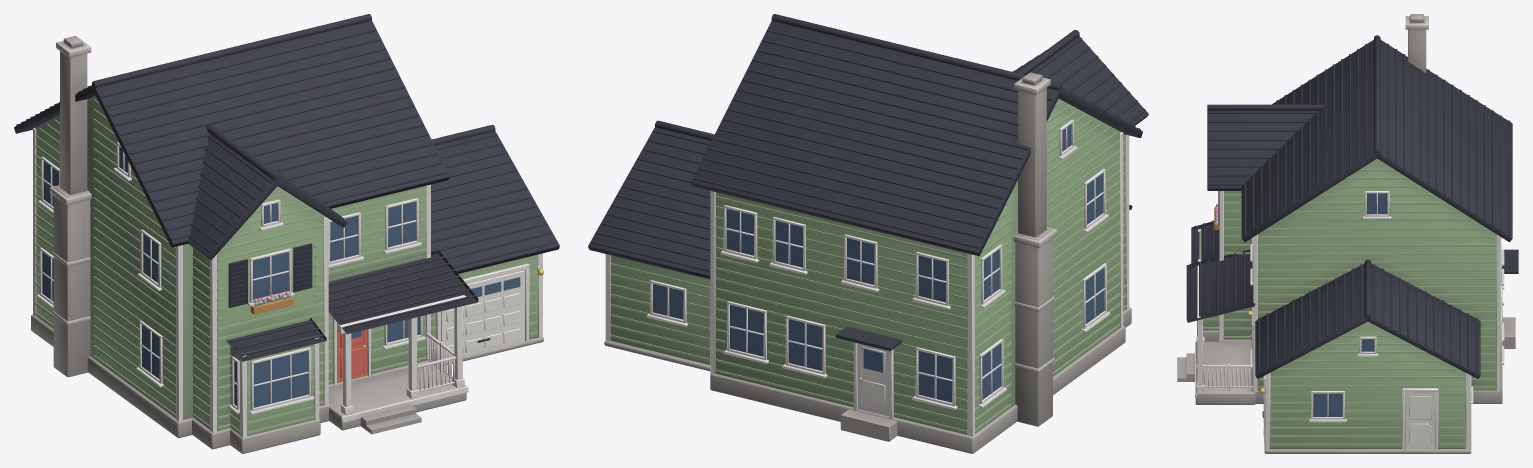
Rendered from suburban-family-house.glb.
3 views of the same model, side by side, from view 1: azimuth 30°, elevation 25°; view 2: azimuth 150°, elevation 25°; view 3: azimuth 270°, elevation 25° (orthographic). The views are drawn at different scales.
Visible parts, largest first — view 1: suburban-family-house_body, suburban-family-house_trim, suburban-family-house_roof_rows, suburban-family-house_siding, suburban-family-house_garage_door; view 2: suburban-family-house_body, suburban-family-house_trim, suburban-family-house_roof_rows, suburban-family-house_siding; view 3: suburban-family-house_body, suburban-family-house_roof_rows, suburban-family-house_siding, suburban-family-house_trim.
Part boxes in pixels (x1=…): suburban-family-house_body: x1=14, y1=14, x2=559, y2=453; suburban-family-house_trim: x1=33, y1=127, x2=543, y2=437; suburban-family-house_roof_rows: x1=16, y1=28, x2=557, y2=356; suburban-family-house_siding: x1=35, y1=99, x2=537, y2=434; suburban-family-house_garage_door: x1=441, y1=270, x2=524, y2=358; suburban-family-house_body: x1=588, y1=14, x2=1148, y2=453; suburban-family-house_trim: x1=605, y1=119, x2=1129, y2=441; suburban-family-house_roof_rows: x1=590, y1=29, x2=1145, y2=271; suburban-family-house_siding: x1=610, y1=102, x2=1126, y2=432; suburban-family-house_body: x1=1186, y1=14, x2=1512, y2=453; suburban-family-house_roof_rows: x1=1190, y1=43, x2=1510, y2=372; suburban-family-house_siding: x1=1203, y1=169, x2=1496, y2=445; suburban-family-house_trim: x1=1177, y1=191, x2=1518, y2=450.
Bounding box in the file's own units: 12.98 × 10.05 × 11.1.
Materials: 7 (2 with a texture image).
